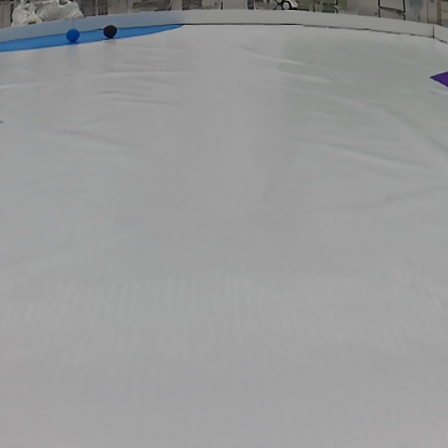black: (103, 24, 119, 37)
blue: (67, 30, 78, 39)
blue_base: (0, 20, 184, 51)
